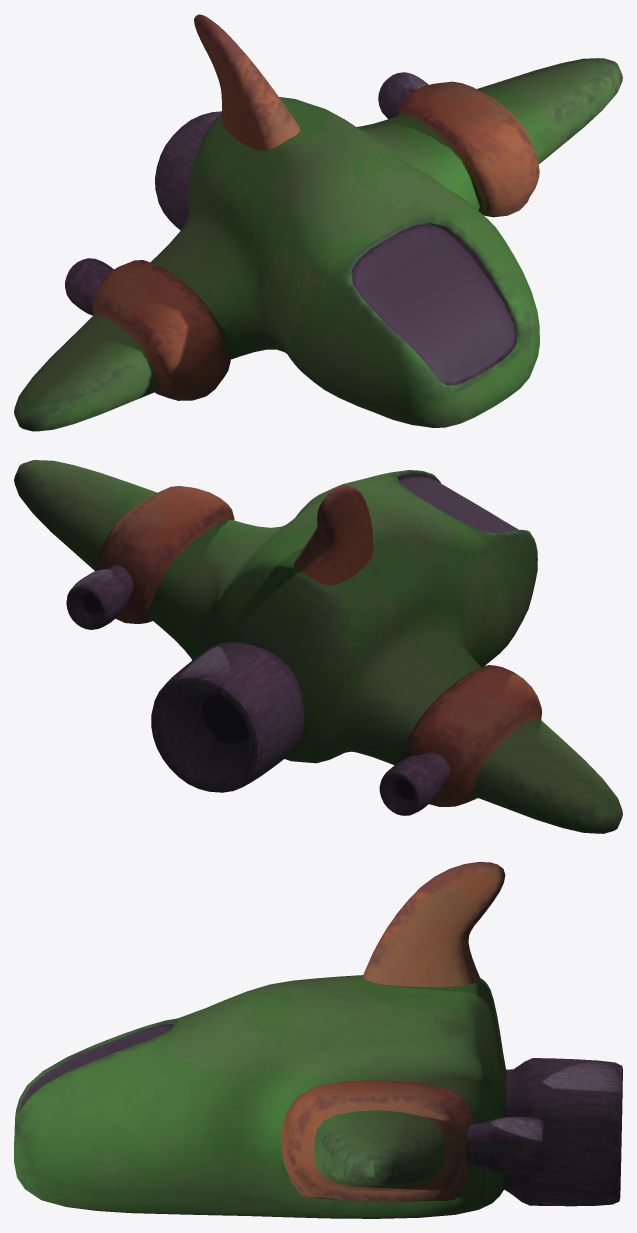
The model's file is Spaceship_draco.glb.
The picture shows the model from 3 angles, top to bottom: view 1: azimuth 30°, elevation 25°; view 2: azimuth 150°, elevation 25°; view 3: azimuth 270°, elevation 25°; orthographic projection. The views are drawn at different scales.
Parts seen in each view (by area): view 1: SHIP; view 2: SHIP; view 3: SHIP.
Boxes of the visible parts, <box> form: SHIP: <box>14,14,622,431</box>; SHIP: <box>14,460,622,833</box>; SHIP: <box>14,862,622,1218</box>.
Bounding box in the file's own units: 0.5889 × 0.2991 × 0.4687.
Materials: 1 (1 with a texture image).
